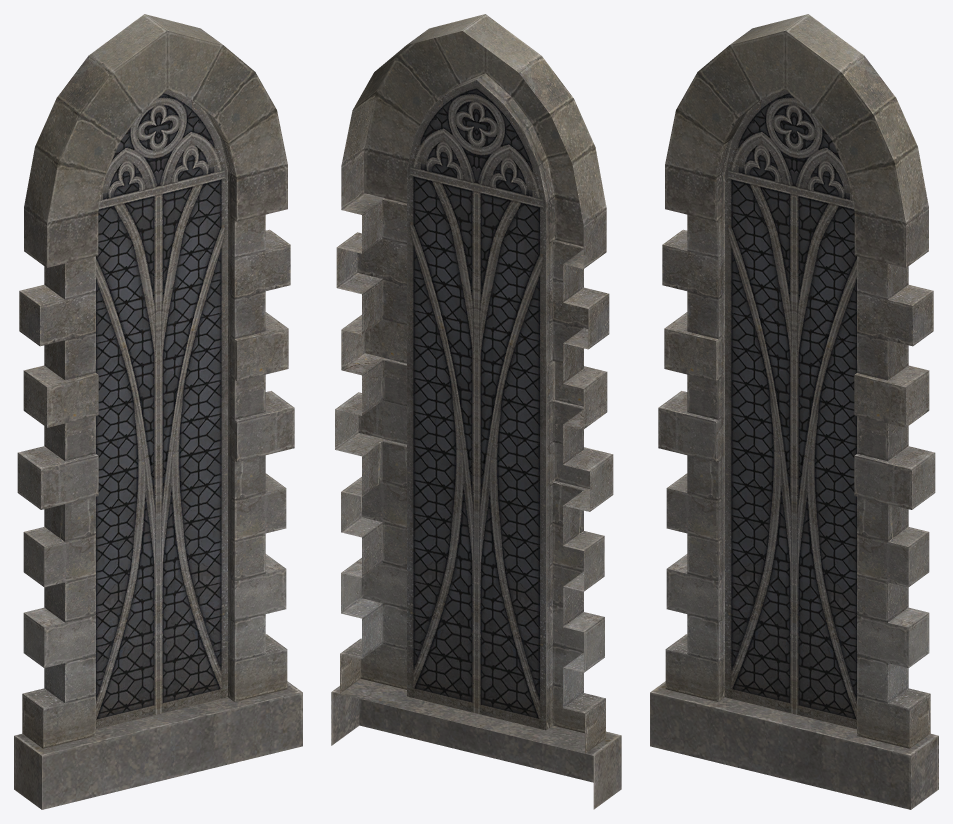
File: bg_lut_lucastle_housewindow06_sm_sup.FBX
The picture shows the model from 3 angles, left to right: view 1: azimuth 30°, elevation 25°; view 2: azimuth 150°, elevation 25°; view 3: azimuth 330°, elevation 25°; orthographic projection.
Visible parts, largest first — view 1: bg_lut_lucastle_housewindow06_sm_sup; view 2: bg_lut_lucastle_housewindow06_sm_sup; view 3: bg_lut_lucastle_housewindow06_sm_sup.
Part boxes in pixels (left/top/right/bottom): bg_lut_lucastle_housewindow06_sm_sup: left=14, top=14, right=302, bottom=809; bg_lut_lucastle_housewindow06_sm_sup: left=331, top=14, right=621, bottom=809; bg_lut_lucastle_housewindow06_sm_sup: left=650, top=14, right=938, bottom=809.
Size of the model in its own units: 87.83 by 239 by 16.27.
